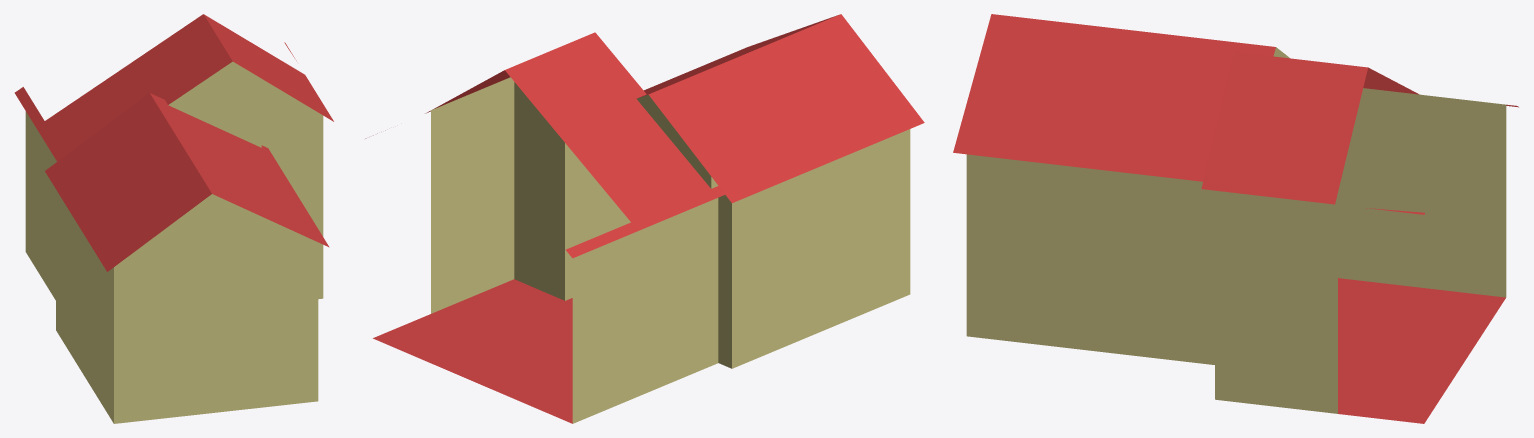
3 renders of one model, left to right at view 1: azimuth 30°, elevation 25°; view 2: azimuth 150°, elevation 25°; view 3: azimuth 270°, elevation 25°, orthographic. The views are drawn at different scales.
Size of the model in its own units: 21.4 by 25.5 by 14.88.
